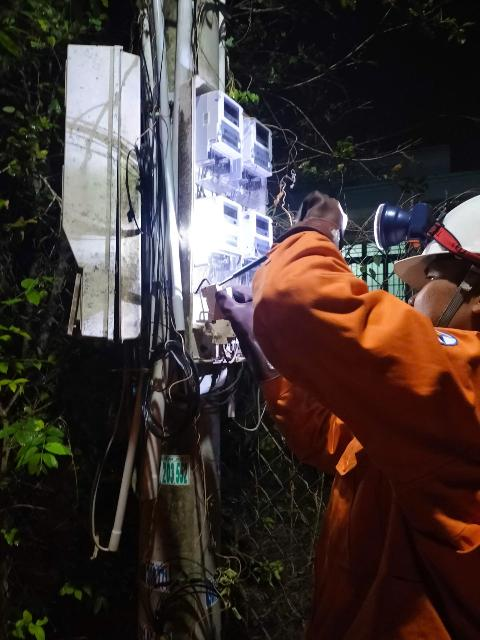helmet: (385, 190, 480, 310)
shoes: (273, 179, 348, 260)
